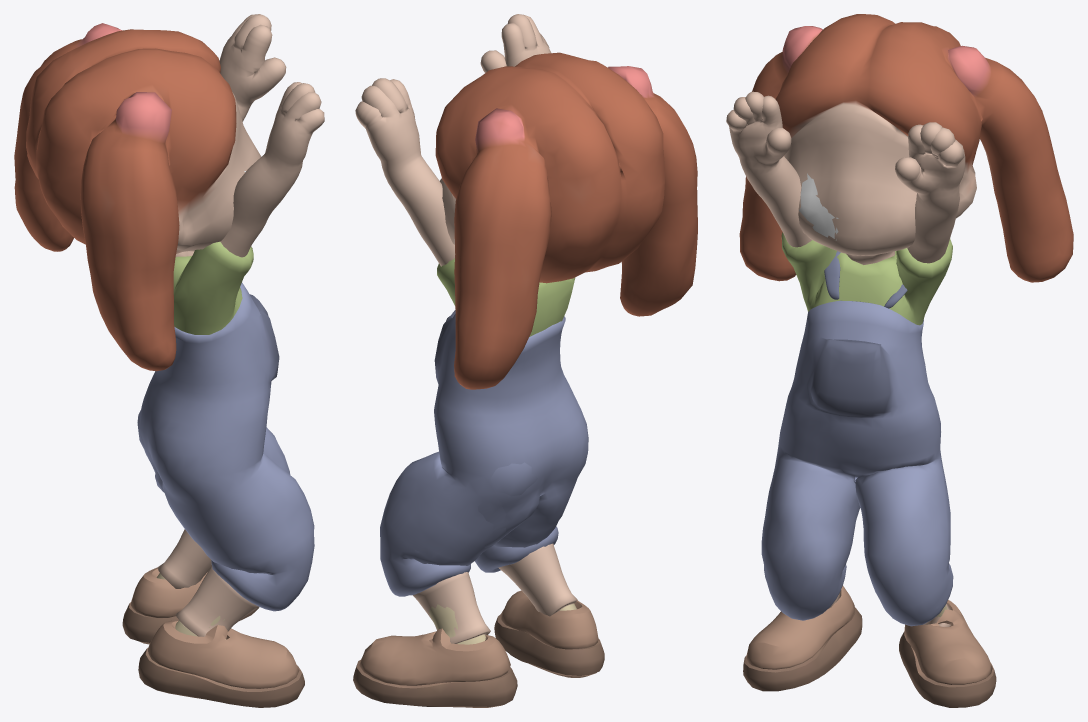
3 renders of one model, left to right at view 1: azimuth 30°, elevation 25°; view 2: azimuth 150°, elevation 25°; view 3: azimuth 270°, elevation 25°, orthographic. The views are drawn at different scales.
Visible parts, largest first — view 1: Arms.118; view 2: Arms.118; view 3: Arms.118.
Part boxes in pixels (x1=…): Arms.118: x1=14, y1=14, x2=324, y2=707; Arms.118: x1=353, y1=14, x2=697, y2=707; Arms.118: x1=726, y1=14, x2=1073, y2=707.
Bounding box in the file's own units: 63.81 × 148 × 75.31.
